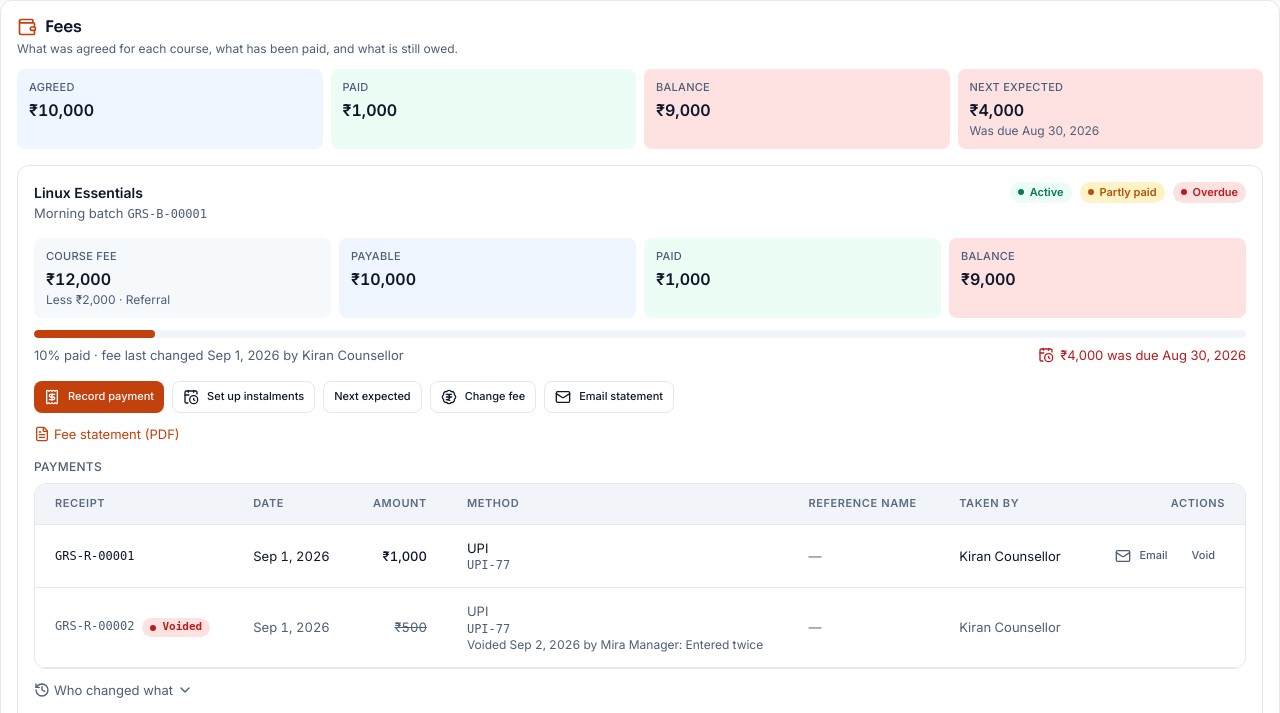
Test: FeeLedger › warns that a timed-out payment may already be saved and refreshes the ledger
The width and height of the screenshot is (1280, 713).
Click the button "Record payment" at (99, 397), box left=34, top=381, right=164, bottom=413
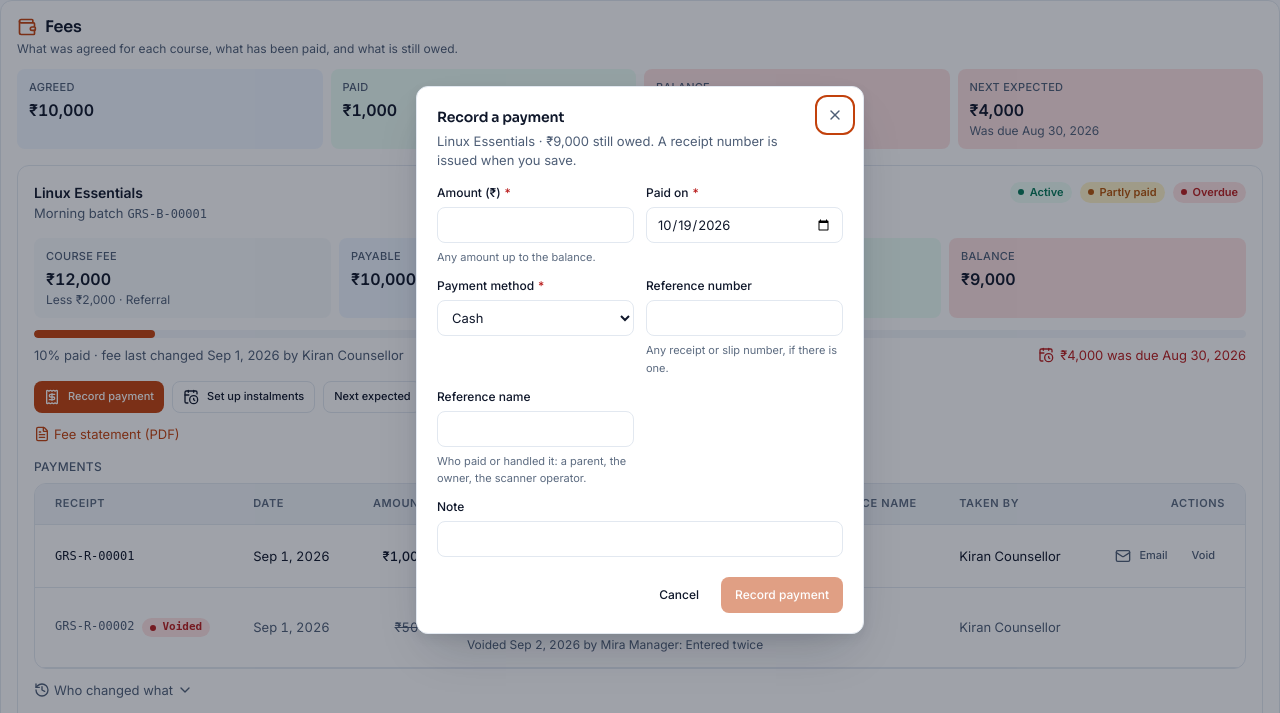
Type "500" into the number field labelled "Amount (₹)*" at (536, 225), box left=437, top=207, right=634, bottom=243
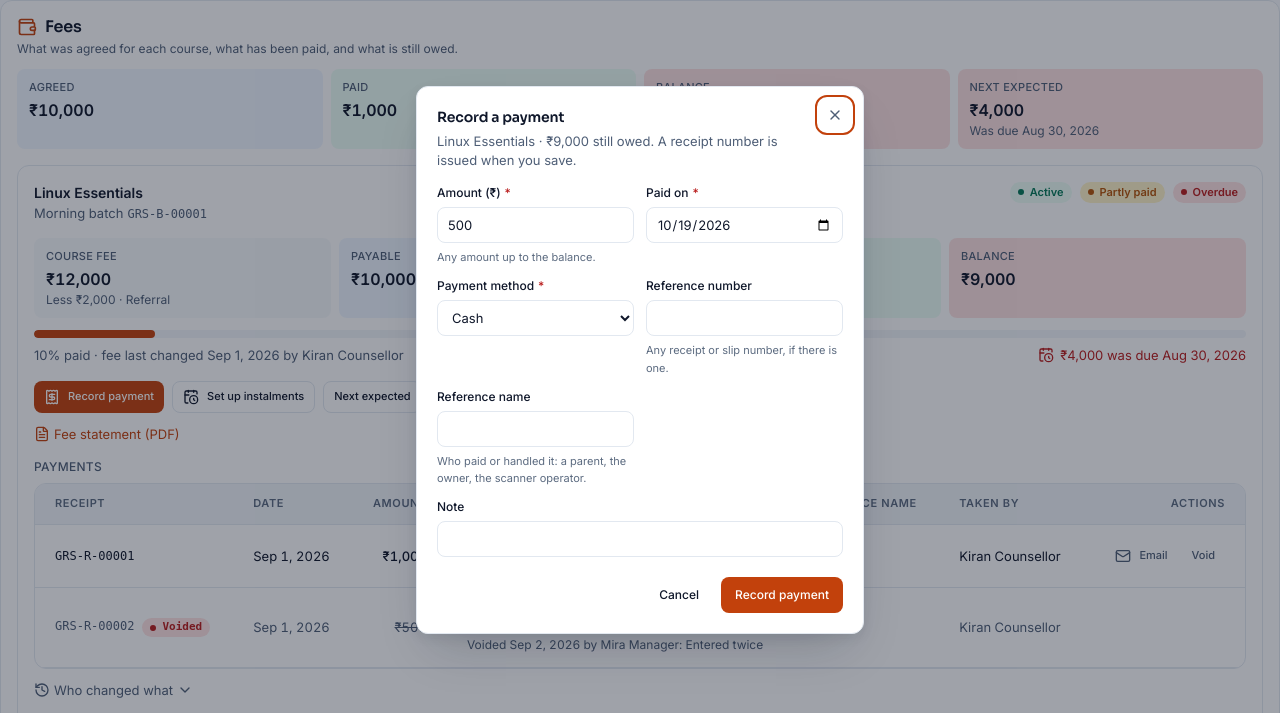
Click the button "Record payment" at (782, 595), box left=721, top=577, right=843, bottom=613
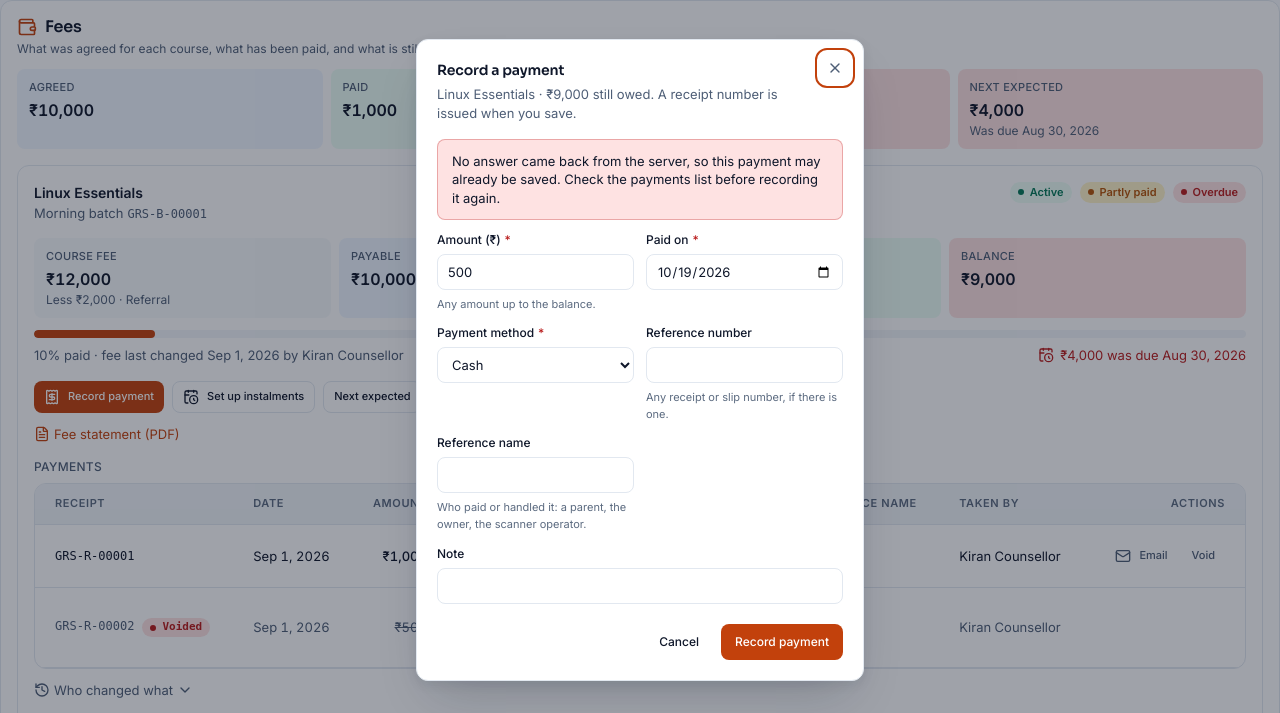
expect the text "may already be saved" is shown: met, box left=452, top=153, right=821, bottom=206
